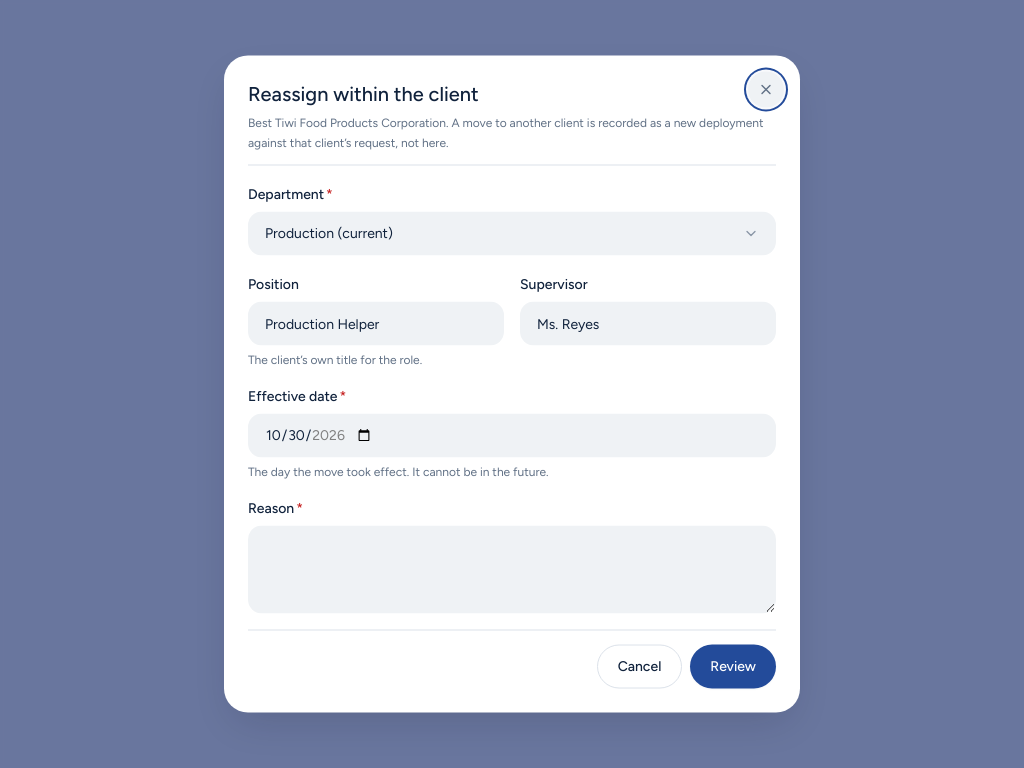
Test: ReassignDialog › offers only this client’s active departments
Click the dropdown named "department". click: click(299, 233)
box: [248,212,776,256]
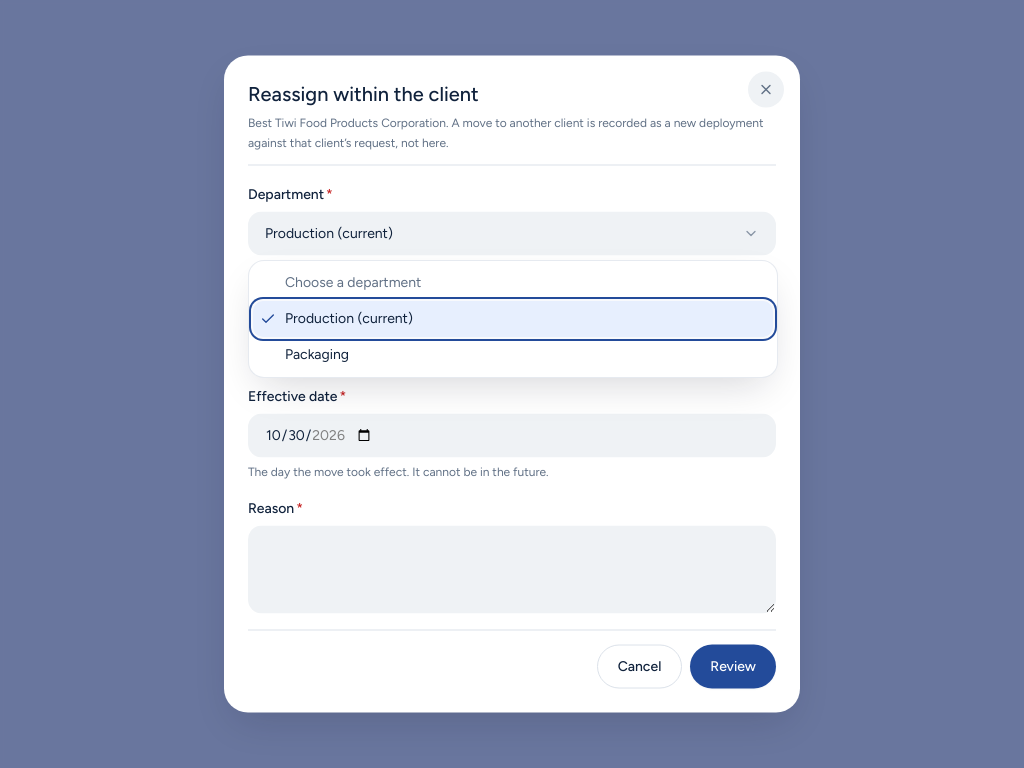
Check: the option "Packaging" is shown, box [285,346,349,363]
